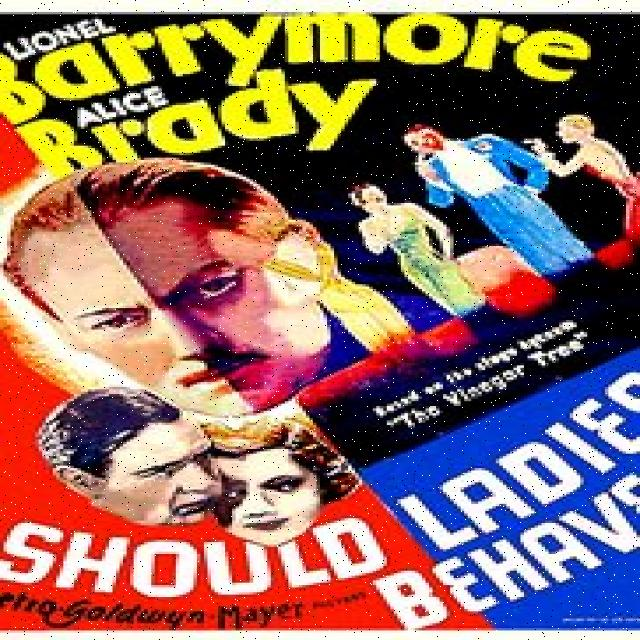movie-judul: (0, 371, 640, 631)
picture: (3, 115, 640, 545)
